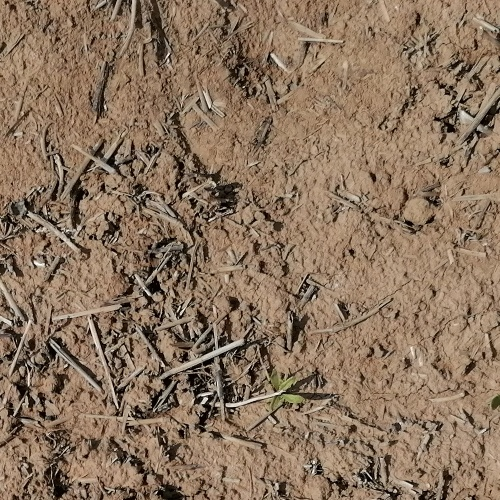beet: (267, 369, 304, 414)
